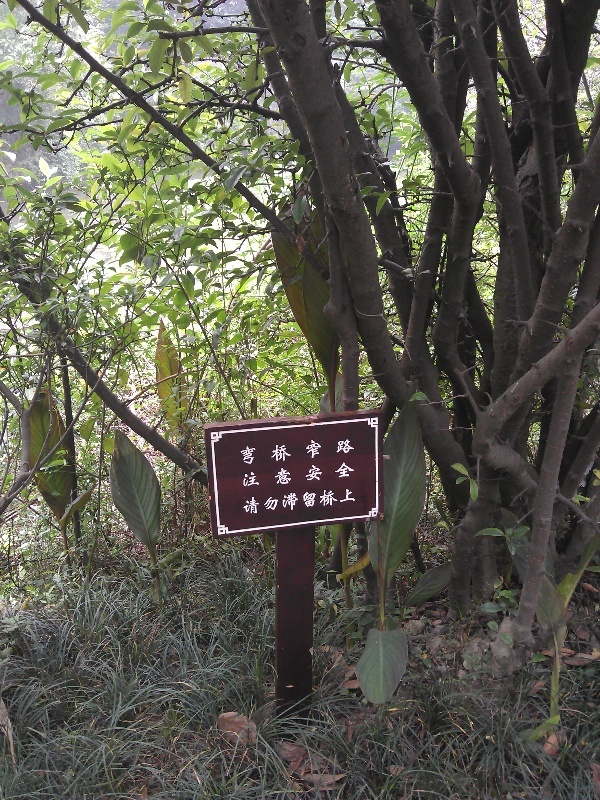text: (241, 436, 256, 466), (257, 436, 272, 466), (273, 436, 288, 466), (289, 436, 304, 466), (305, 436, 320, 466), (321, 436, 336, 466), (337, 436, 352, 466), (257, 486, 272, 516), (273, 486, 288, 516), (289, 486, 304, 516), (305, 486, 320, 516), (321, 486, 336, 516), (337, 486, 352, 516), (241, 460, 256, 489), (257, 460, 272, 489), (273, 460, 288, 489), (289, 460, 304, 489), (305, 460, 320, 489), (321, 460, 336, 489), (337, 460, 352, 489), (242, 486, 256, 516), (353, 436, 356, 466), (353, 486, 356, 516), (353, 460, 356, 489), (239, 436, 240, 466)
